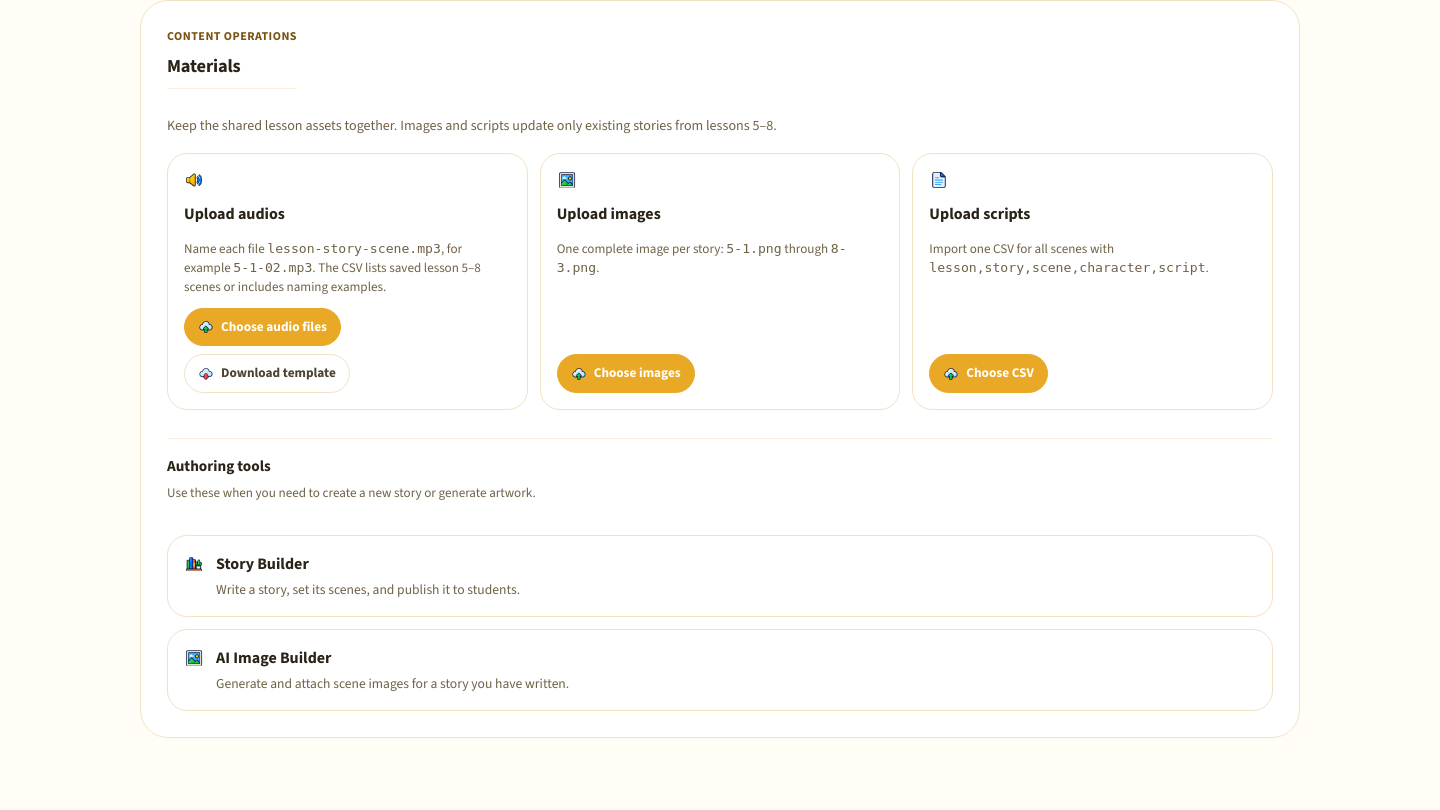
Admin Materials bulk imports › keeps audio, image, and script uploads together and opens a preview dialog
Expected: the heading "Upload audios" is shown, [184, 202, 285, 227]
Expected: the heading "Upload images" is shown, [557, 202, 661, 227]
Click the button "Choose images": (626, 374) [557, 354, 695, 393]
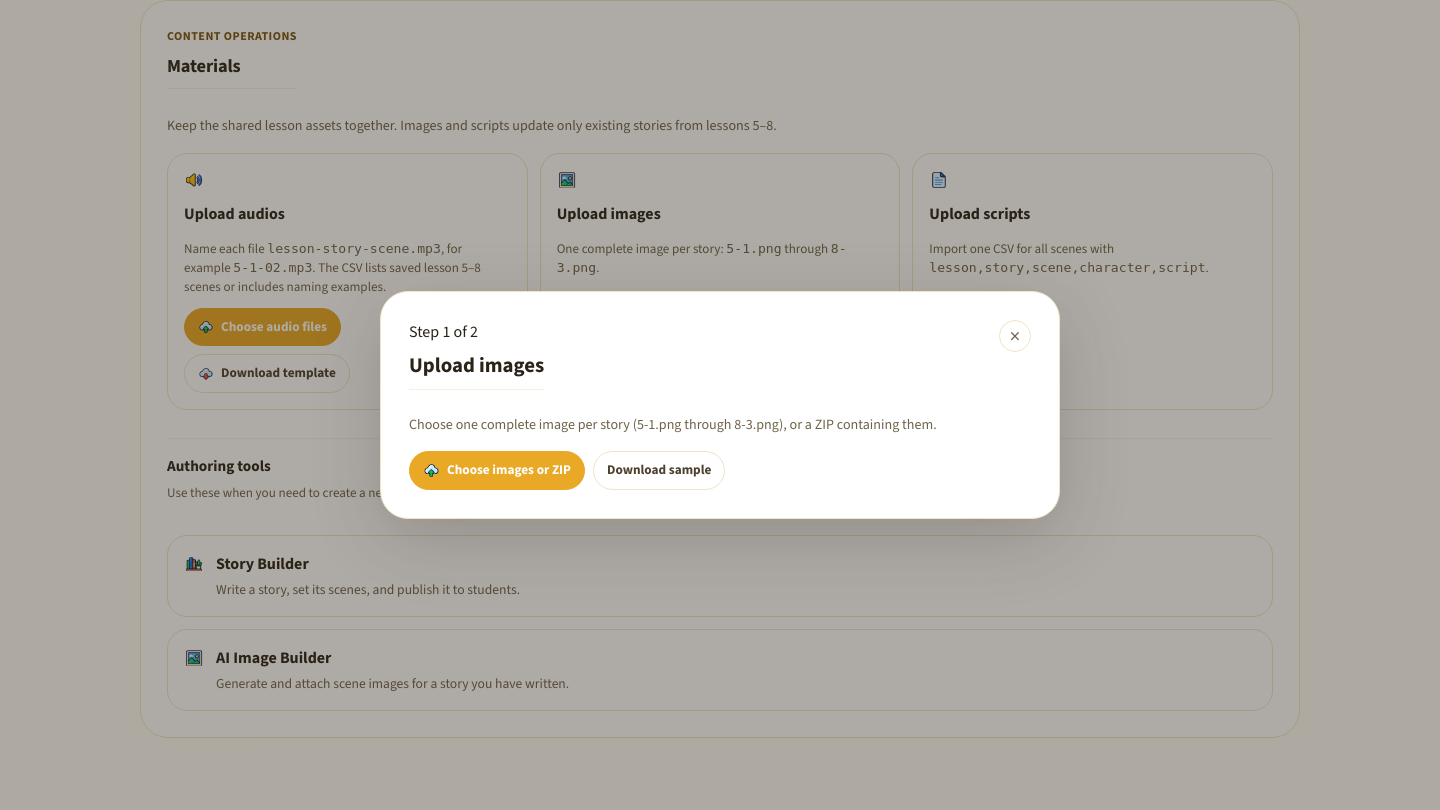
Now the dialog "Upload images" is shown, box [380, 291, 1060, 519]
Now the button "Download sample" is shown, box [593, 451, 725, 490]
